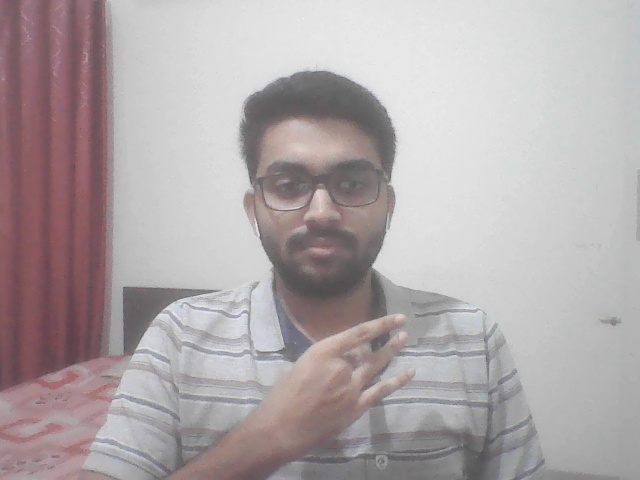like: (245, 295, 432, 465)
